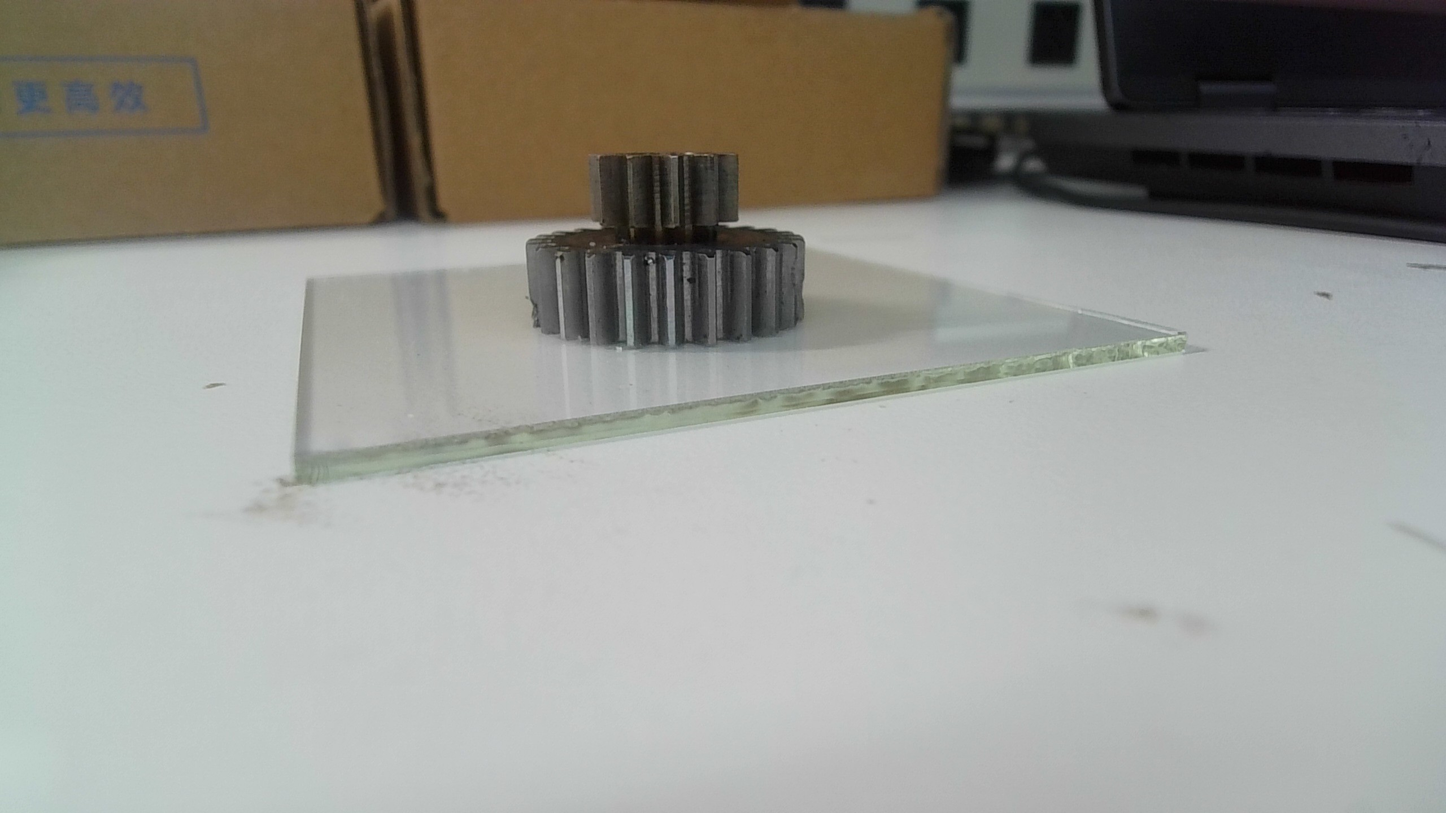gear: (521, 149, 812, 354)
